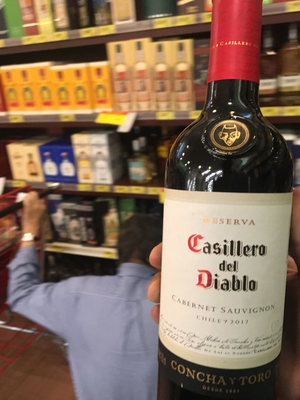casillero del diablo cabernet sauvignon: (158, 8, 296, 400)
